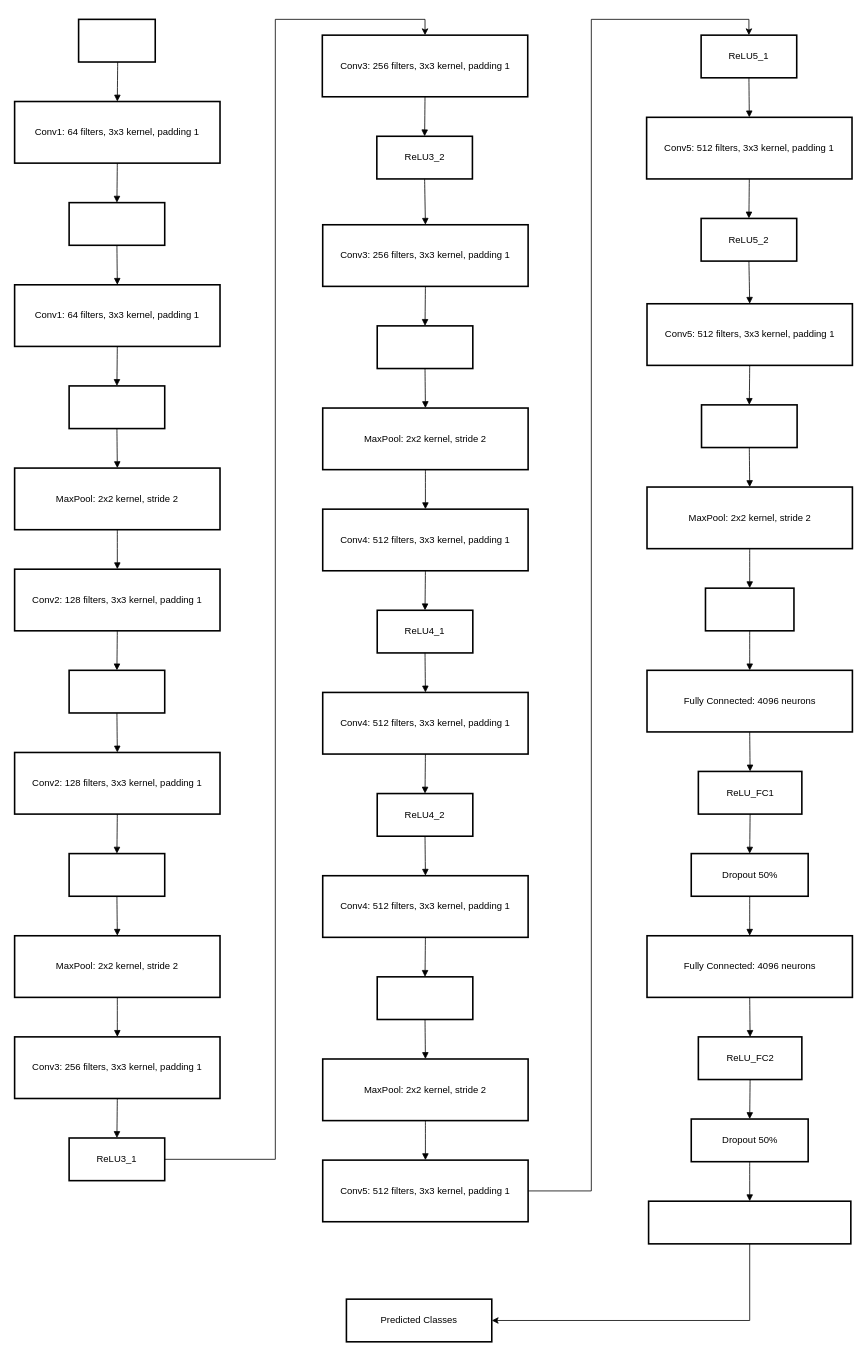
Image size: 867x1356. Some labels were removed from this diagram. The centre of each missing label's shape, as x and y in pixels:
"Flatten" goes at point (749, 609).
"Fully Connected" goes at point (749, 1222).
"Input" goes at point (116, 40).
"ReLU1_1" goes at point (116, 223).
"ReLU1_2" goes at point (116, 407).
"ReLU2_1" goes at point (116, 691).
"ReLU2_2" goes at point (116, 874).
"ReLU3_3" goes at point (424, 347).
"ReLU4_3" goes at point (424, 998).
"ReLU5_3" goes at point (749, 426).
